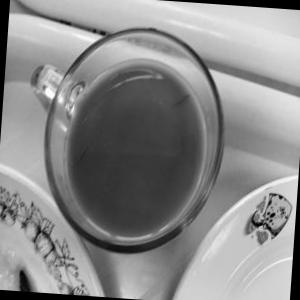coffee: (20, 16, 241, 264)
